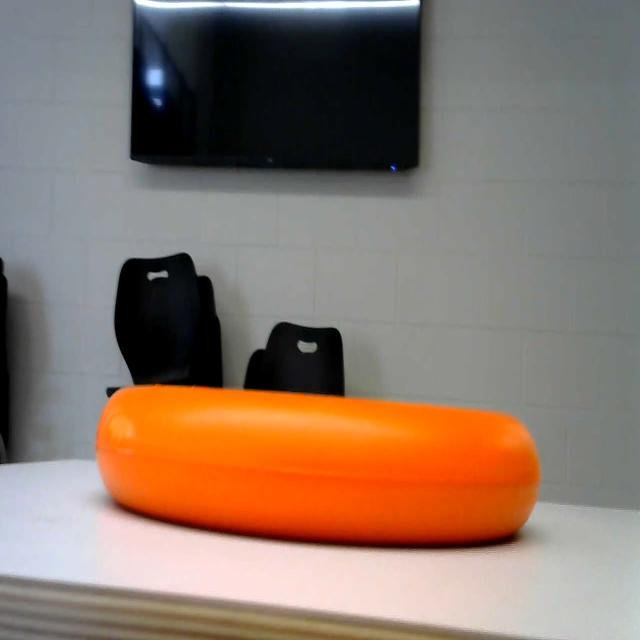note: (78, 376, 551, 552)
